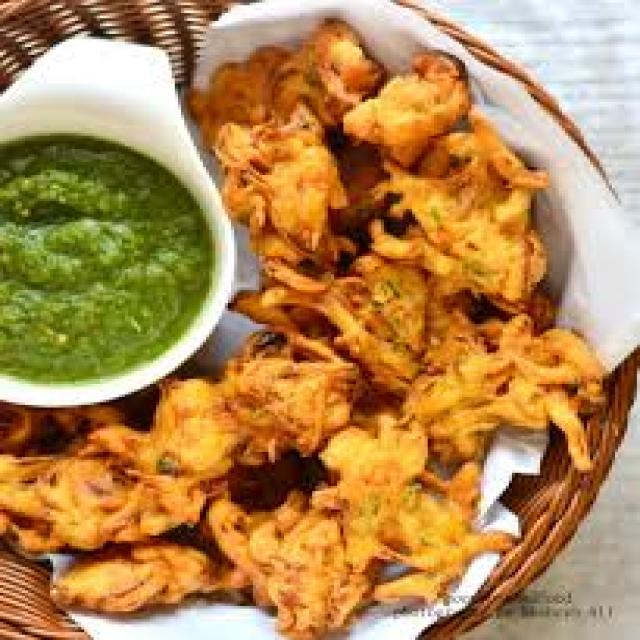BAJI: (0, 21, 599, 637)
